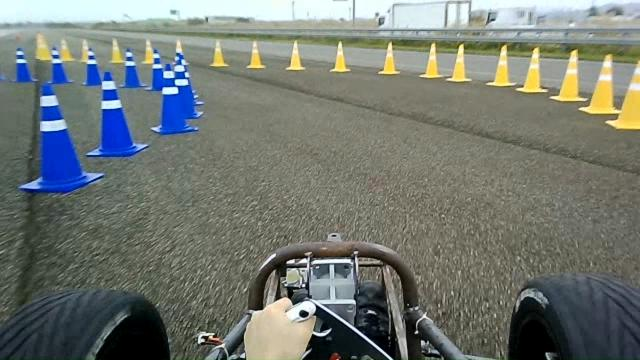blue cone: (18, 82, 104, 194), (85, 71, 149, 157), (158, 62, 196, 130), (172, 57, 200, 118)
yellow cone: (578, 54, 621, 114), (605, 60, 639, 130), (550, 48, 588, 102)
